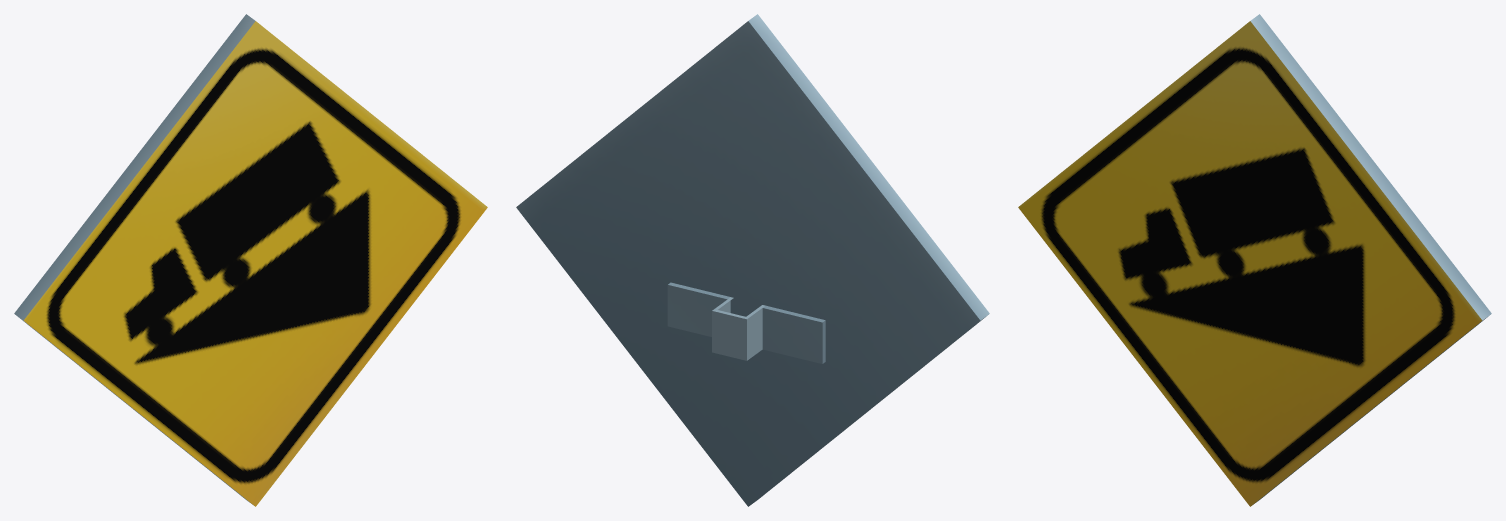
The model's file is Sign23.fbx.
3 renders of one model, left to right at view 1: azimuth 30°, elevation 25°; view 2: azimuth 150°, elevation 25°; view 3: azimuth 330°, elevation 25°, orthographic.
Visible parts, largest first — view 1: Sign23; view 2: Sign23; view 3: Sign23.
Boxes of the visible parts, x1,y1,x2,y2 form: Sign23: (14, 14, 487, 506); Sign23: (516, 14, 989, 506); Sign23: (1018, 14, 1491, 506).
Bounding box in the file's own units: 1.41 × 0.1489 × 1.41.
